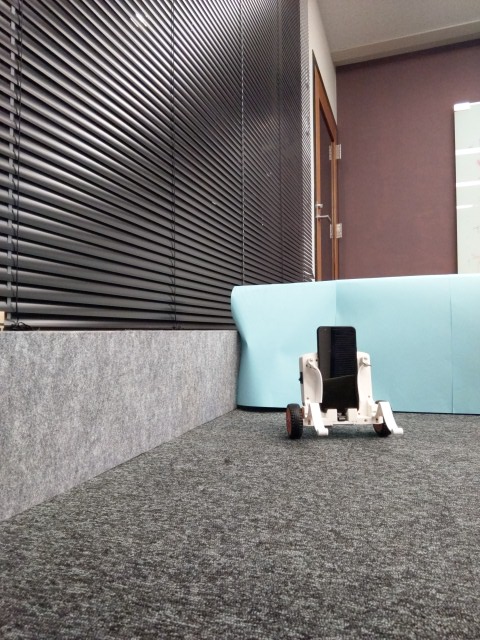f: (281, 323, 405, 438)
